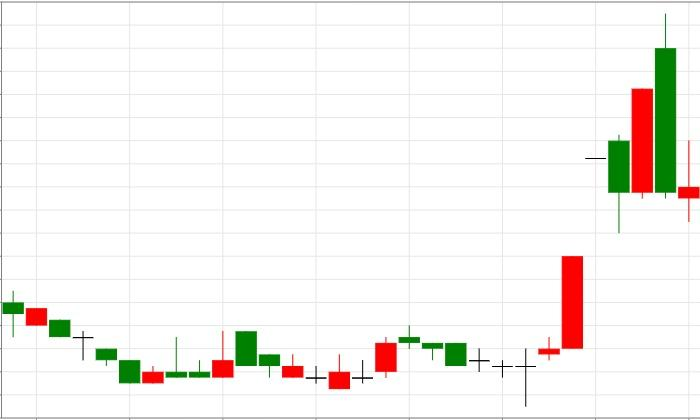bearish_engulfing_fall: (515, 13, 677, 406)
